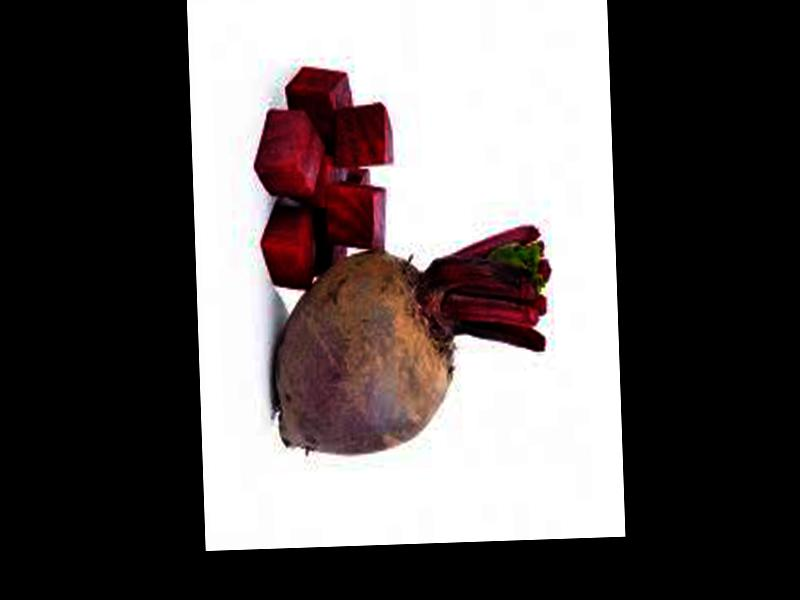Beet: (268, 225, 554, 456)
